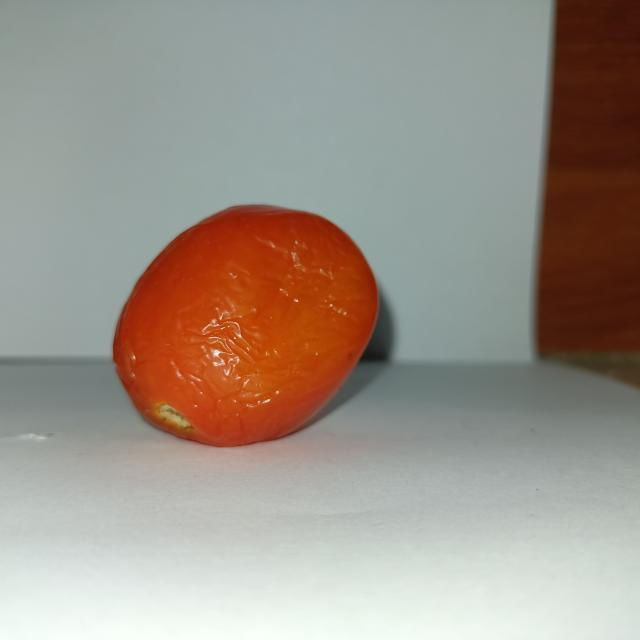Red: (111, 202, 380, 447)
